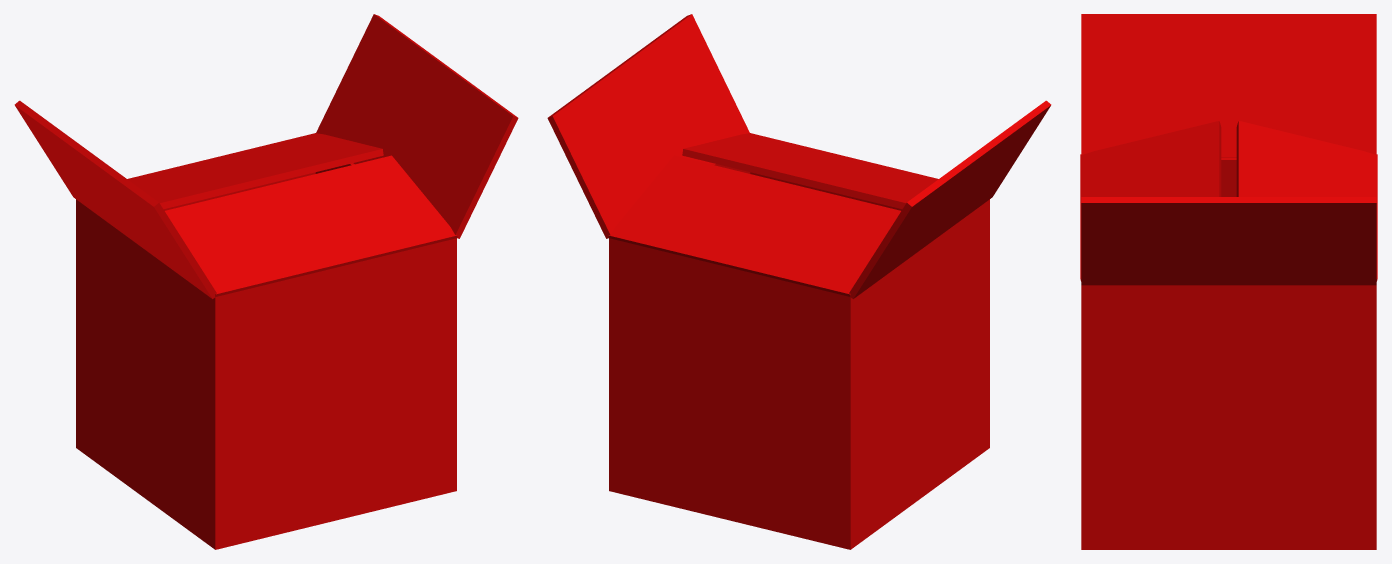
The model's file is Storage.fbx.
The picture shows the model from 3 angles, left to right: view 1: azimuth 30°, elevation 25°; view 2: azimuth 150°, elevation 25°; view 3: azimuth 270°, elevation 25°; orthographic projection. The views are drawn at different scales.
Parts seen in each view (by area): view 1: Storage; view 2: Storage; view 3: Storage.
Part boxes in pixels (box(x1,y1,x2,y2)): Storage: box(14, 14, 518, 549); Storage: box(547, 14, 1051, 549); Storage: box(1080, 14, 1377, 549).
Bounding box in the file's own units: 604 × 403 × 571.
